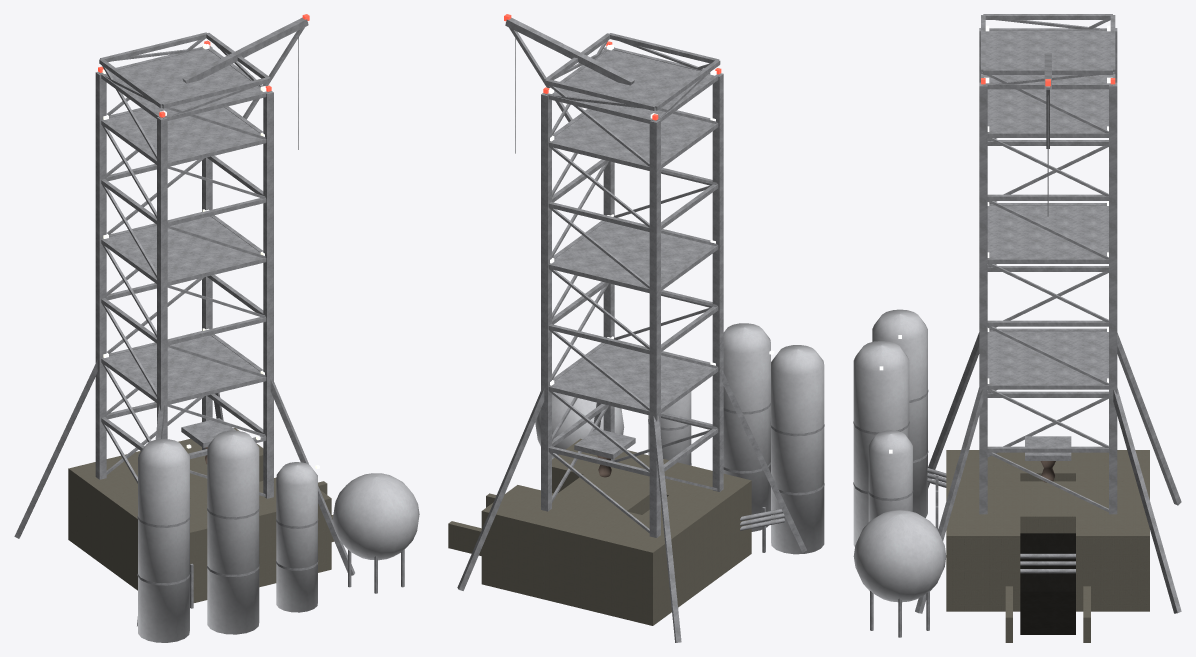
File: raptor_stand.glb
3 renders of one model, left to right at view 1: azimuth 30°, elevation 25°; view 2: azimuth 150°, elevation 25°; view 3: azimuth 270°, elevation 25°, orthographic. The views are drawn at different scales.
Parts seen in each view (by area): view 1: RaptorStand_Mesh; view 2: RaptorStand_Mesh; view 3: RaptorStand_Mesh.
Boxes of the visible parts, x1,y1,x2,y2 form: RaptorStand_Mesh: (14,14,419,642); RaptorStand_Mesh: (448,14,824,642); RaptorStand_Mesh: (853,14,1181,642).
Size of the model in its own units: 36.05 by 64.7 by 35.46.
Materials: 7 (5 with a texture image).
